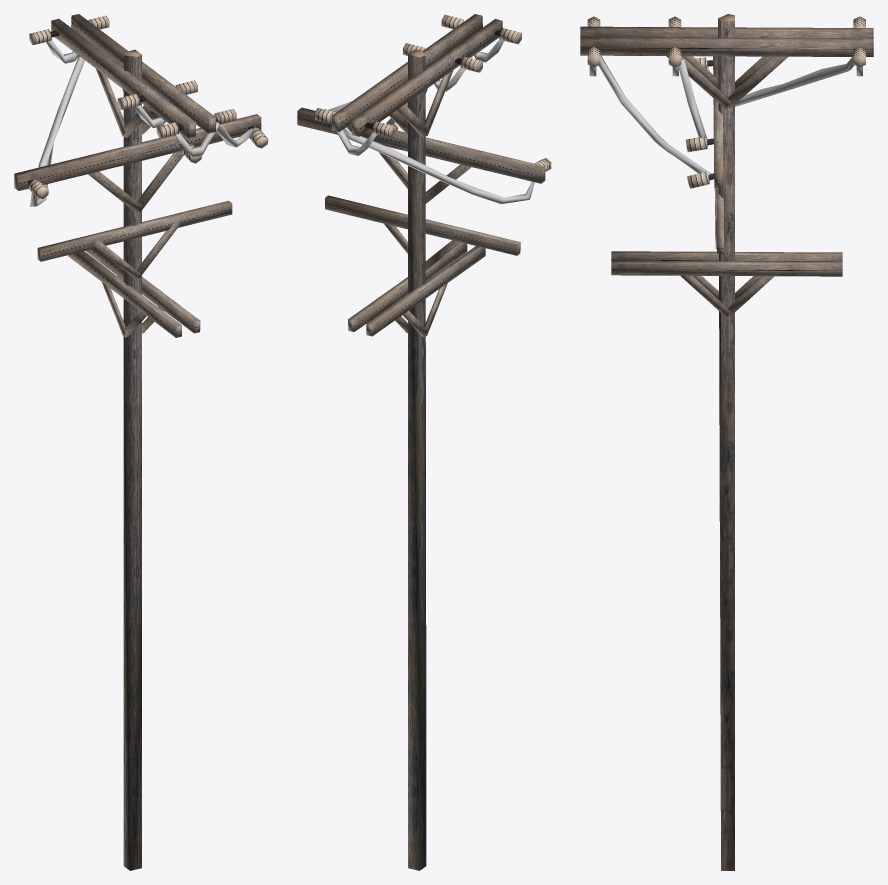
The model's file is PowerPoleJuct_1.fbx.
The picture shows the model from 3 angles, left to right: view 1: azimuth 30°, elevation 25°; view 2: azimuth 150°, elevation 25°; view 3: azimuth 270°, elevation 25°; orthographic projection. The views are drawn at different scales.
Visible parts, largest first — view 1: main0, pole0, wires0; view 2: main0, pole0, wires0; view 3: main0, pole0, wires0.
Boxes of the visible parts, box(x1,y1,x2,y2) form: main0: box(14, 14, 268, 337); pole0: box(123, 49, 141, 870); wires0: box(30, 40, 253, 206); main0: box(297, 14, 551, 337); pole0: box(408, 49, 426, 870); wires0: box(327, 38, 534, 204); main0: box(580, 16, 873, 316); pole0: box(718, 14, 734, 870); wires0: box(589, 55, 862, 175).
Size of the model in its own units: 2.91 by 9.3 by 2.91.
